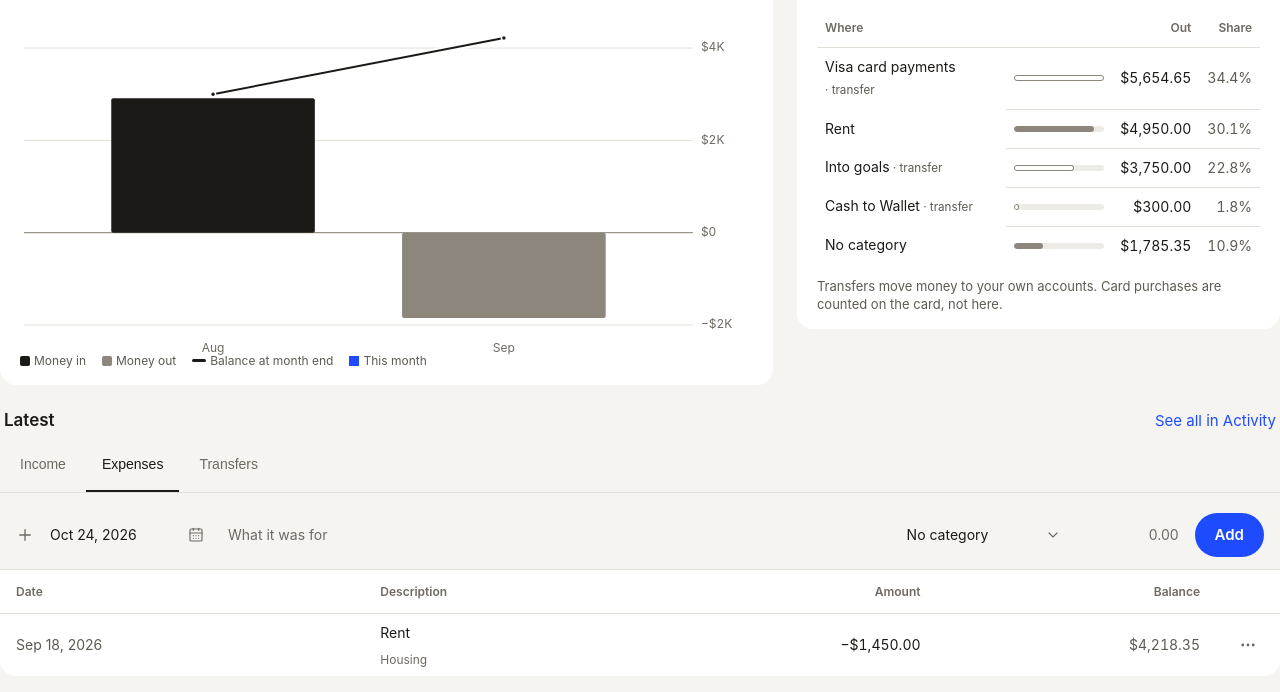
Test case: AccountDetailPage › editing in place, like a spreadsheet › puts a cell back with Escape, and writes nothing
The image size is (1280, 692).
(page scrolled)
Click the button with aria-label "Description, Rent. Edit". click: x=498, y=634
box: [372,618,624,648]
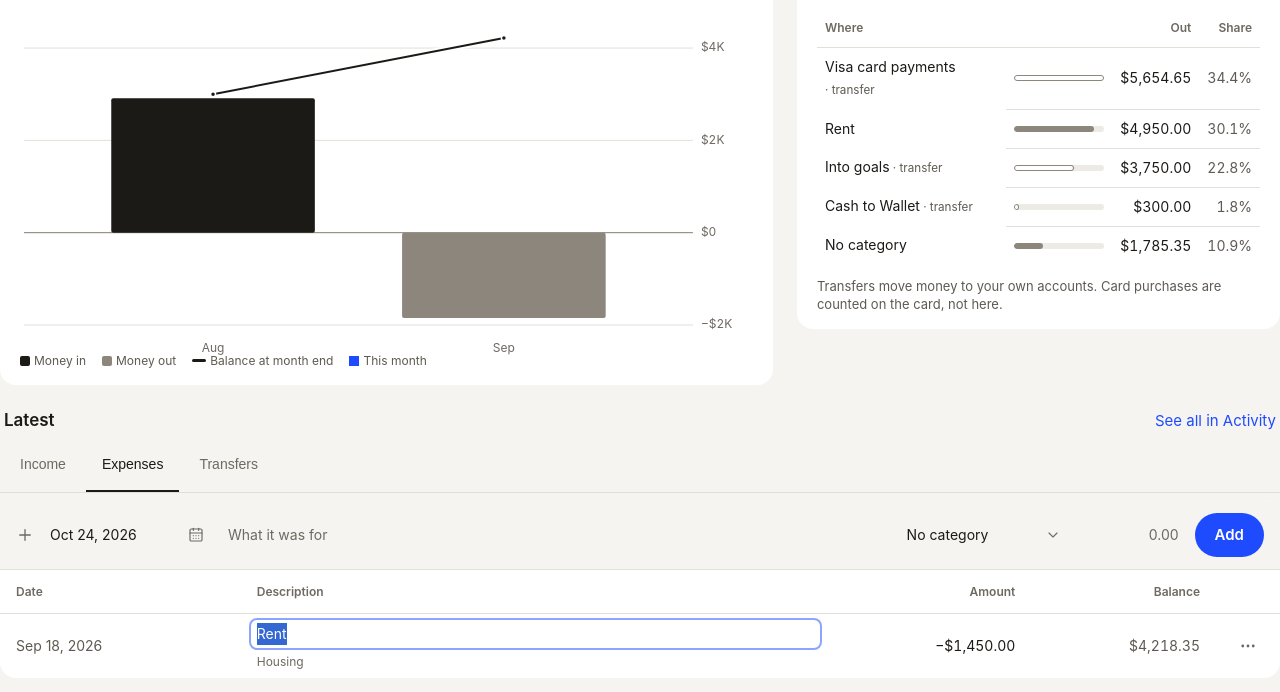
Replace the text in the field named "Description" with "Something else". click: x=536, y=634
box: [249,618,822,650]
Then press Escape
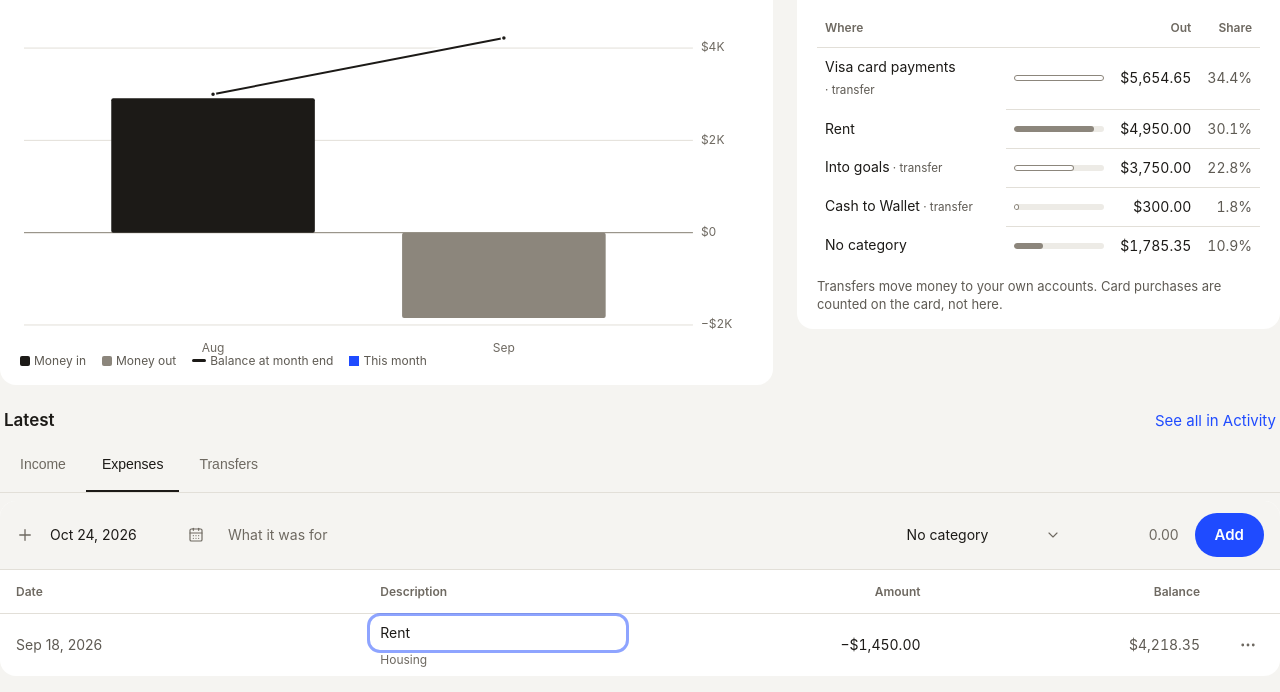
Now the button with aria-label "Description, Rent. Edit" is shown, box [372,618,624,648]
